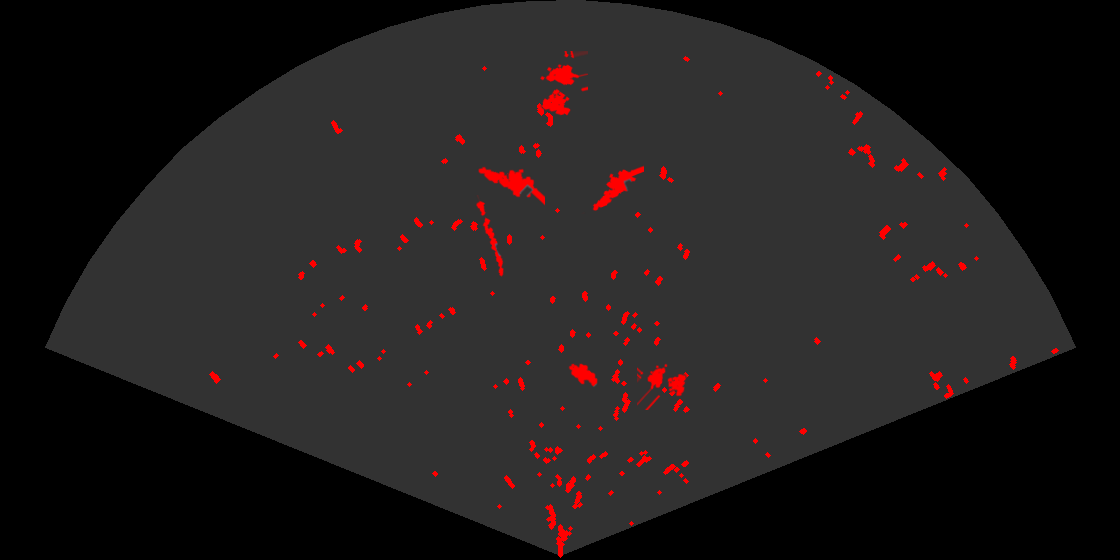AUV: (567, 362, 599, 388)
cage: (539, 51, 588, 117), (637, 362, 688, 410)
chain: (475, 195, 505, 279)
frogman: (581, 164, 644, 214), (477, 165, 545, 207)
